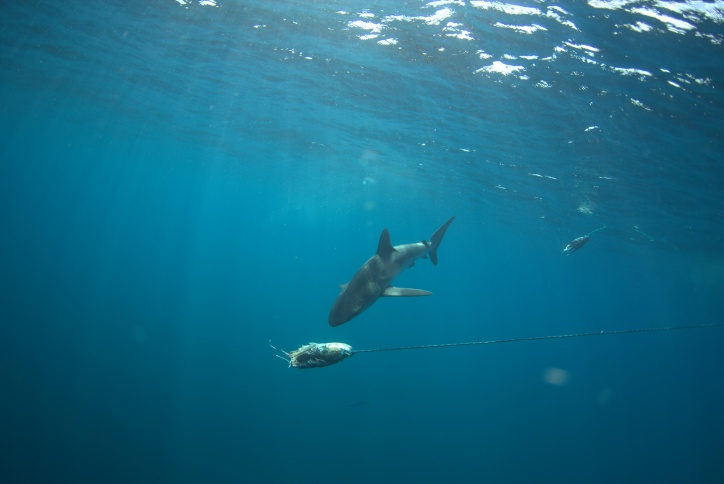Sedoso: (323, 209, 465, 335)
